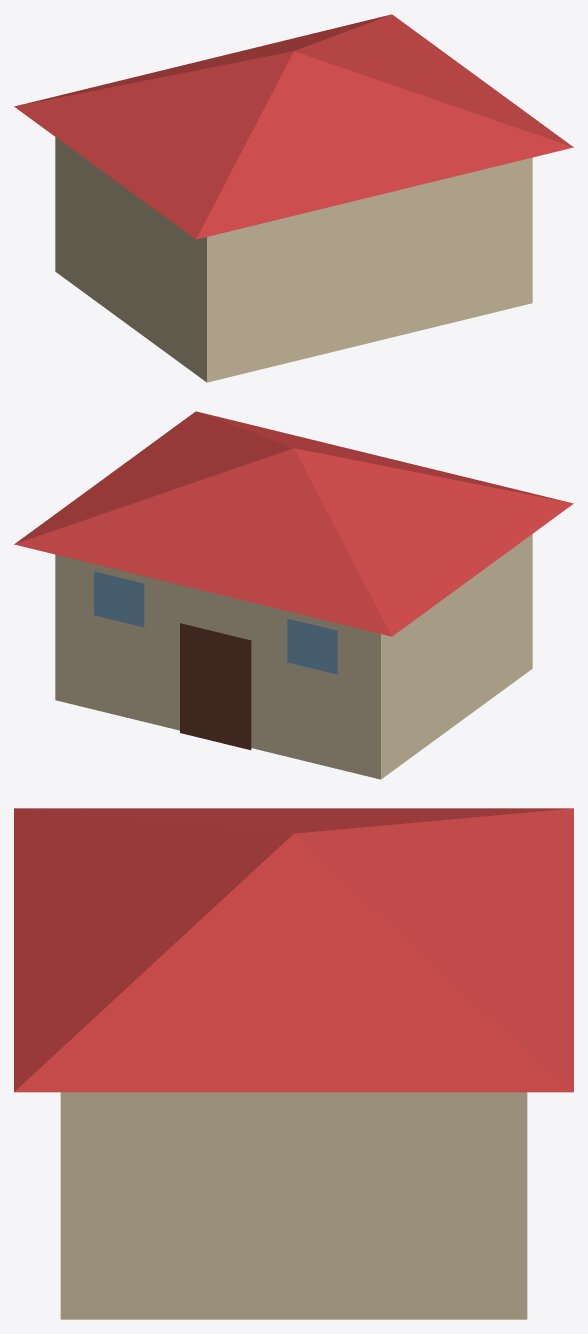
The model's file is house.obj.
3 views of the same model, one above another, from view 1: azimuth 30°, elevation 25°; view 2: azimuth 150°, elevation 25°; view 3: azimuth 270°, elevation 25° (orthographic). The views are drawn at different scales.
Bounding box in the file's own units: 3.6 × 2.15 × 3.
